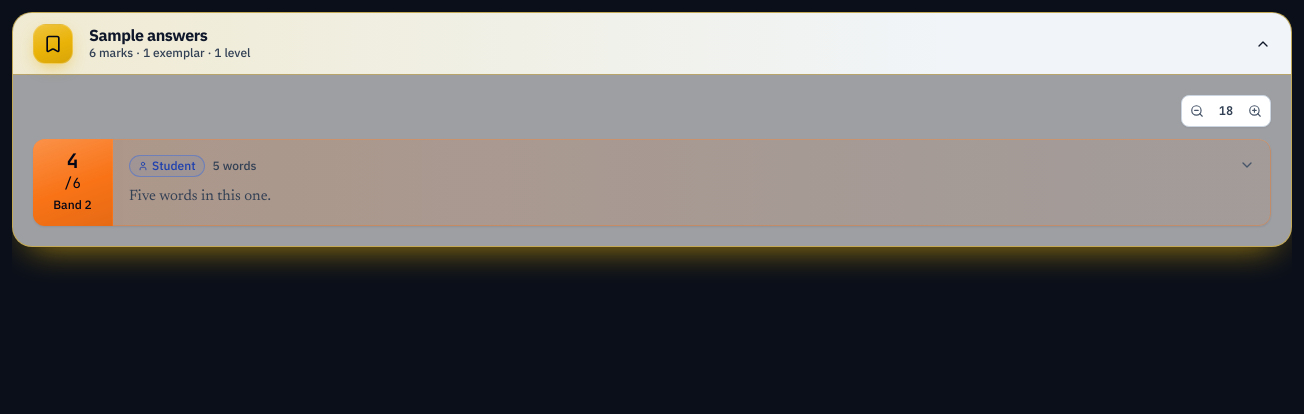
Scenario: the answer and the commentary are kept apart › labels the paper with its length and its source, on its own top bar
Click the button "Student 5 words Five words in this one." at point(180, 166), box x1=113 y1=139 x2=1271 y2=226
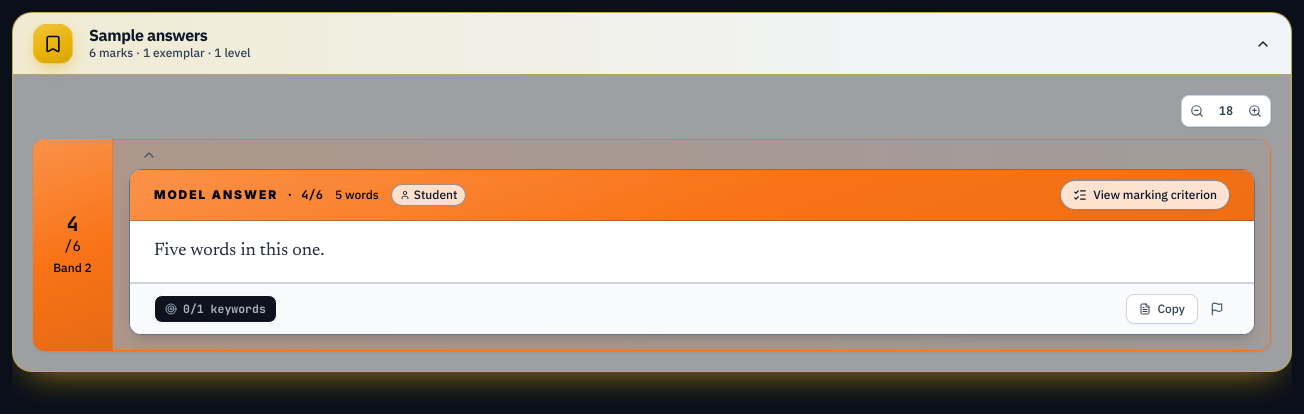
Check: the text "Model answer" is shown, box x1=154 y1=187 x2=278 y2=203
Check: the text "5 words" is shown, box x1=335 y1=187 x2=379 y2=203
Check: the text "Student" is shown, box x1=391 y1=184 x2=466 y2=206
